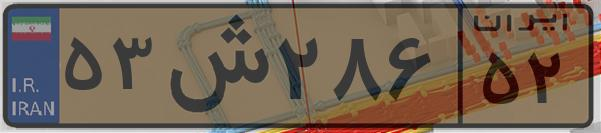2: (270, 28, 330, 110), (525, 38, 570, 115)
3: (110, 28, 158, 98)
5: (57, 26, 110, 100), (475, 38, 525, 113)
6: (385, 28, 445, 110)
8: (330, 28, 385, 110)
ش: (158, 12, 270, 120)
